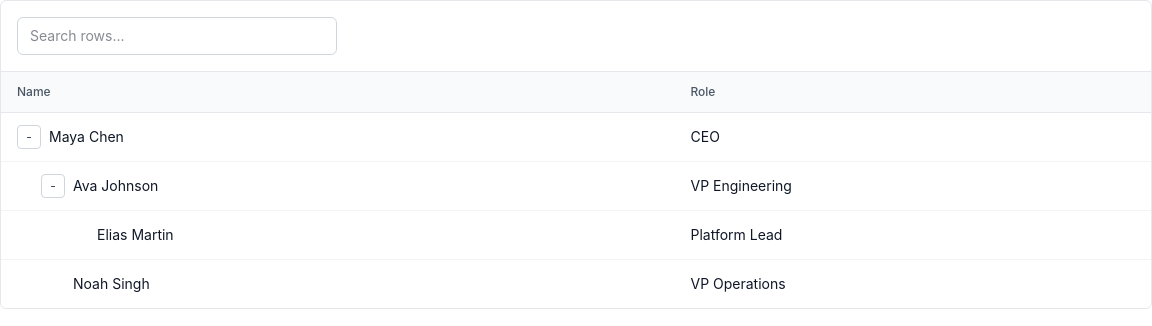
Test: TreeList › filters rows and keeps ancestor paths by default
Type "platform" into the search field labelled "Search rows".
click(177, 36); type("platform")  # box [17,17,337,55]
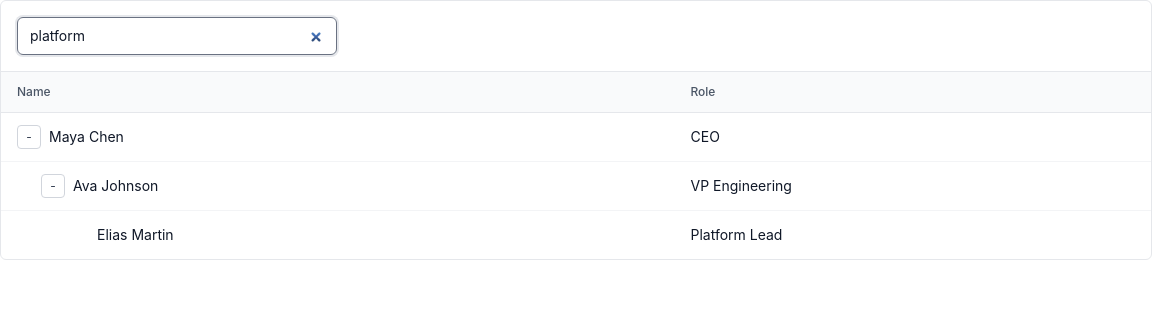
Expected: the text "Maya Chen" is shown, [49,127,124,147]
Result: the text "Noah Singh" is gone
